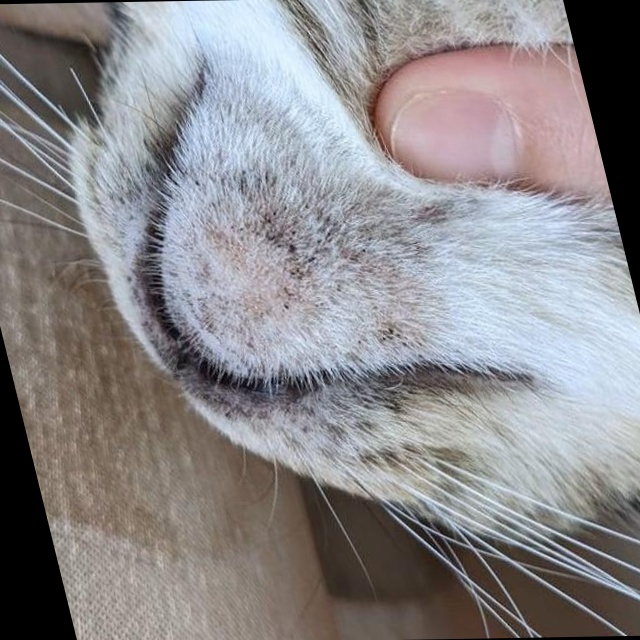acne: (176, 161, 453, 359)
